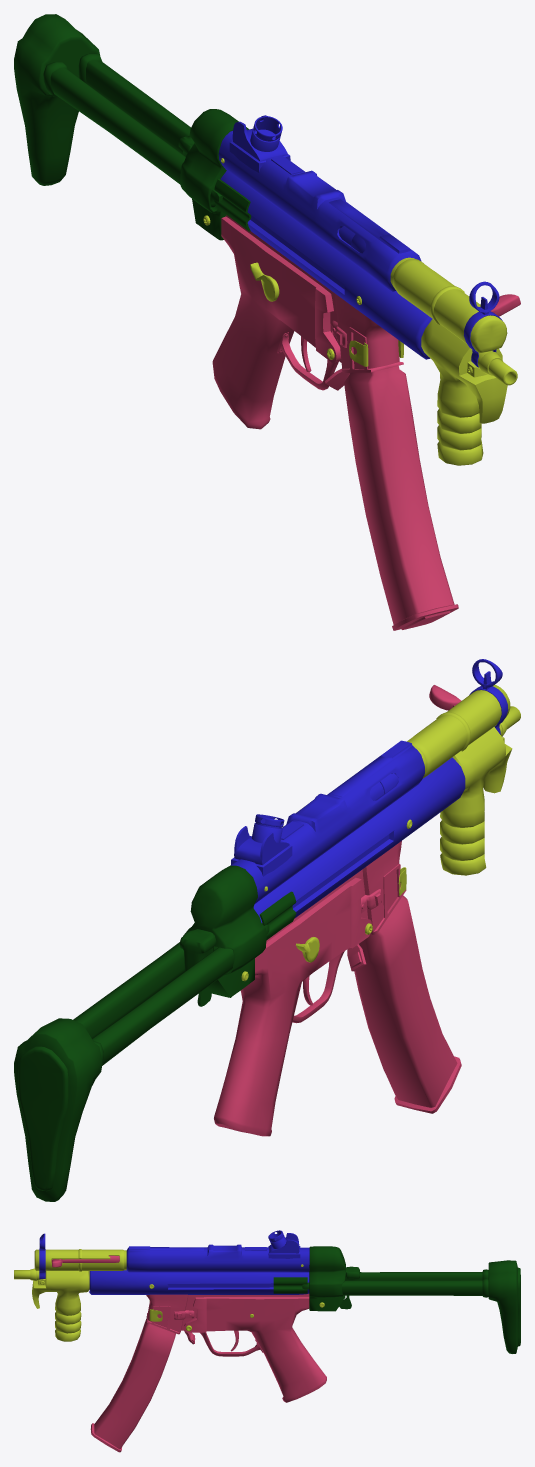
3 renders of one model, top to bottom at view 1: azimuth 30°, elevation 25°; view 2: azimuth 150°, elevation 25°; view 3: azimuth 270°, elevation 25°, orthographic. The views are drawn at different scales.
Parts seen in each view (by area): view 1: Magazin, Handl_1, Hull_3_001, Hull_2, butt_of_the_rifle_1, butt_of_the_rifle_2, Handl_2, Hull_3, Hull_4, Hull_1, Scope_3, lath (+3 smaller); view 2: Handl_1, Magazin, butt_of_the_rifle_2, Hull_3_001, Hull_2, butt_of_the_rifle_1, Hull_4, Handl_2, Hull_3, Hull_1, Scope_3, backdrop (+3 smaller); view 3: Handl_1, Hull_2, Magazin, Hull_3_001, butt_of_the_rifle_1, Handl_2, butt_of_the_rifle_2, Hull_4, Hull_3, Hull_1, lath, Scope_3 (+4 smaller).
Boxes of the visible parts, x1,y1,x2,y2 form: Magazin: [344, 366, 458, 630]; Handl_1: [212, 216, 341, 429]; Hull_3_001: [218, 129, 421, 291]; Hull_2: [220, 171, 432, 359]; butt_of_the_rifle_1: [43, 53, 222, 207]; butt_of_the_rifle_2: [14, 14, 100, 185]; Handl_2: [421, 319, 507, 465]; Hull_3: [390, 257, 507, 352]; Hull_4: [180, 109, 249, 240]; Hull_1: [226, 215, 403, 372]; Scope_3: [229, 115, 290, 172]; lath: [214, 179, 251, 231]; Handl_1: [214, 877, 371, 1136]; Magazin: [354, 895, 461, 1113]; butt_of_the_rifle_2: [14, 1018, 102, 1201]; Hull_3_001: [231, 740, 424, 903]; Hull_2: [253, 757, 465, 922]; butt_of_the_rifle_1: [73, 923, 269, 1065]; Hull_4: [183, 865, 266, 997]; Handl_2: [440, 727, 512, 875]; Hull_3: [407, 684, 510, 778]; Hull_1: [266, 841, 406, 941]; Scope_3: [231, 826, 292, 876]; backdrop: [179, 929, 216, 1006]; Handl_1: [184, 1297, 326, 1402]; Hull_2: [89, 1270, 309, 1294]; Magazin: [90, 1319, 175, 1452]; Hull_3_001: [126, 1244, 309, 1272]; butt_of_the_rifle_1: [302, 1269, 488, 1297]; Handl_2: [32, 1271, 89, 1341]; butt_of_the_rifle_2: [488, 1260, 520, 1353]; Hull_4: [309, 1246, 345, 1311]; Hull_3: [34, 1249, 126, 1271]; Hull_1: [146, 1293, 309, 1334]; lath: [273, 1277, 307, 1293]; Scope_3: [268, 1233, 300, 1258].
Size of the model in its own units: 1.35 by 6.54 by 13.92.
